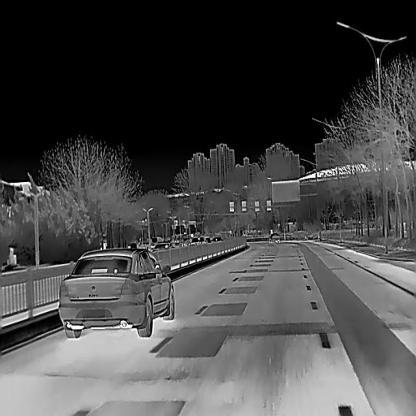car: (57, 247, 176, 339), (151, 242, 175, 254), (267, 231, 282, 244), (190, 235, 205, 245)
